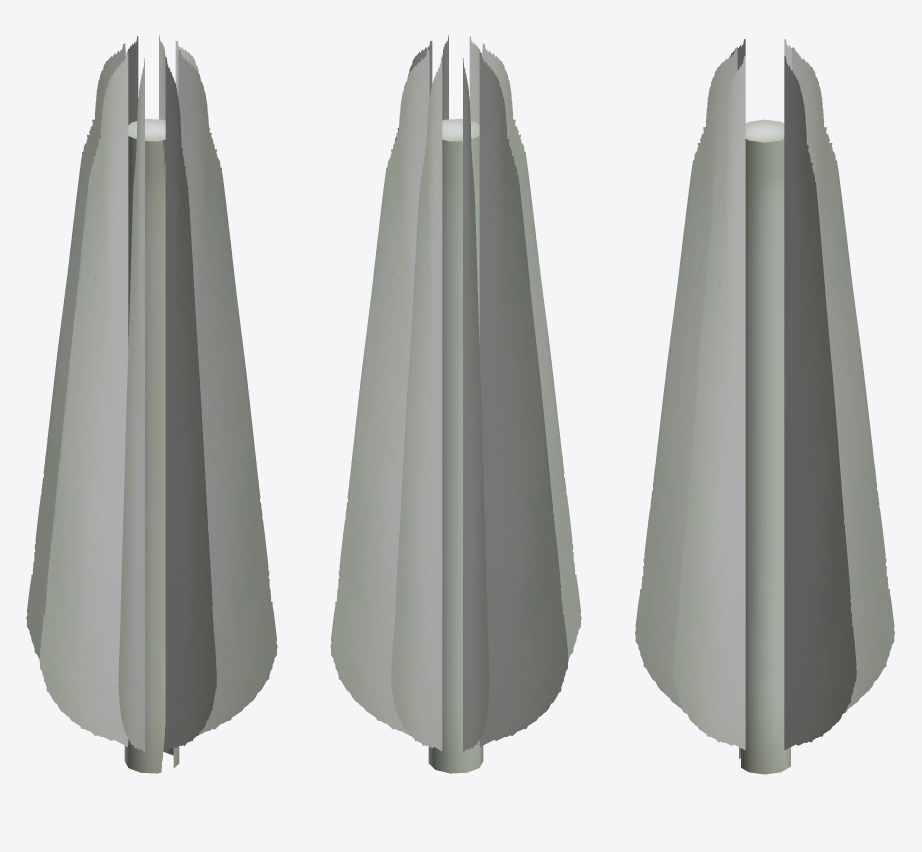
File: corporate_chandelier_12.fbx
The picture shows the model from 3 angles, left to right: view 1: azimuth 30°, elevation 25°; view 2: azimuth 150°, elevation 25°; view 3: azimuth 270°, elevation 25°; orthographic projection.
Visible parts, largest first — view 1: mesh_1, mesh_0; view 2: mesh_1, mesh_0; view 3: mesh_1, mesh_0.
Boxes of the visible parts, bbox=[...] form: mesh_1: bbox=[26, 35, 277, 752]; mesh_0: bbox=[124, 136, 179, 773]; mesh_1: bbox=[330, 35, 581, 752]; mesh_0: bbox=[428, 136, 483, 773]; mesh_1: bbox=[635, 39, 894, 749]; mesh_0: bbox=[739, 139, 790, 774].
Size of the model in its own units: 90.04 by 276 by 90.04.
2 materials, 2 textured.
